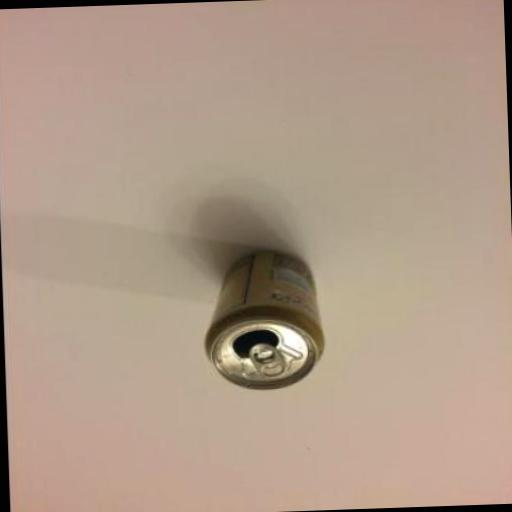metal: (202, 250, 327, 392)
